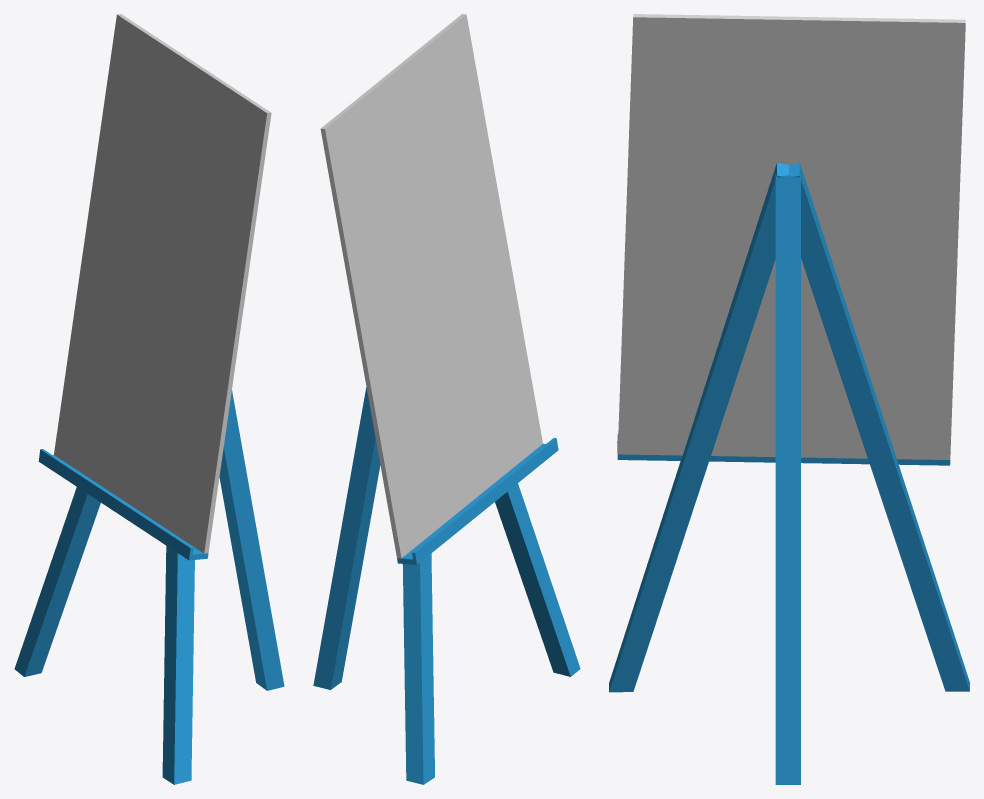
File: flipchart.fbx
3 views of the same model, side by side, from view 1: azimuth 30°, elevation 25°; view 2: azimuth 150°, elevation 25°; view 3: azimuth 270°, elevation 25° (orthographic). The views are drawn at different scales.
Parts seen in each view (by area): view 1: Cube.003; view 2: Cube.003; view 3: Cube.003.
Boxes of the visible parts, x1,y1,x2,y2 form: Cube.003: [14, 14, 284, 784]; Cube.003: [313, 14, 580, 784]; Cube.003: [609, 14, 969, 784].
Bounding box in the file's own units: 126 × 414 × 186.
